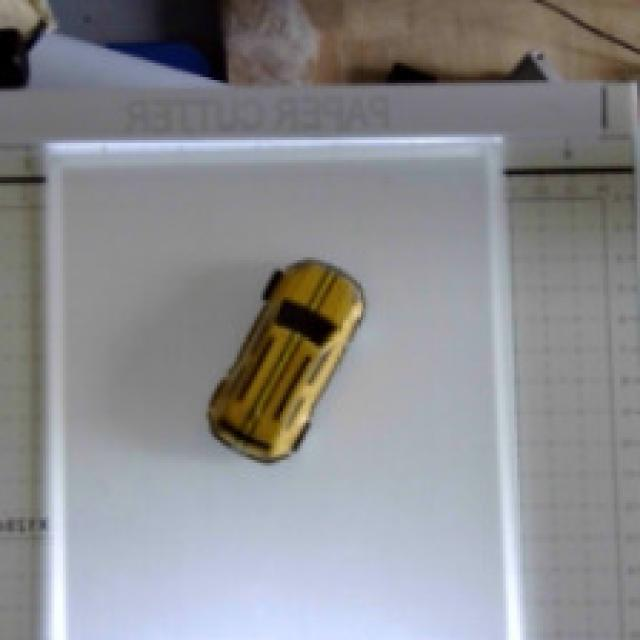Yellow Car: (180, 224, 378, 483)
